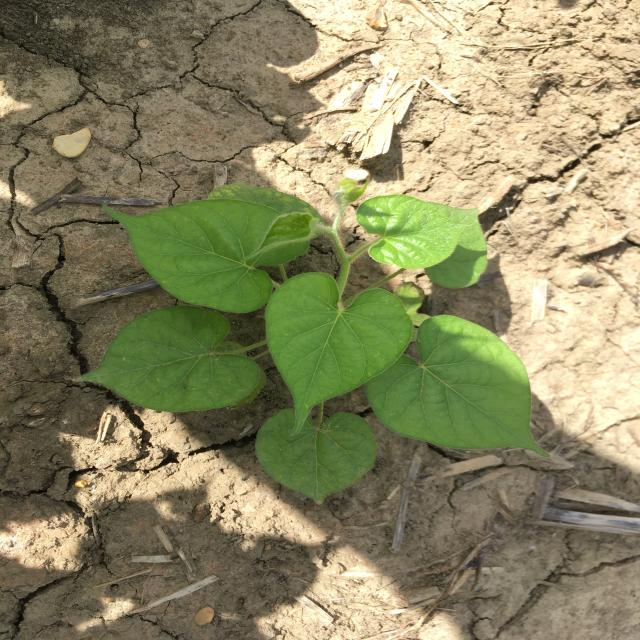MorningGlory: (70, 178, 552, 505)
